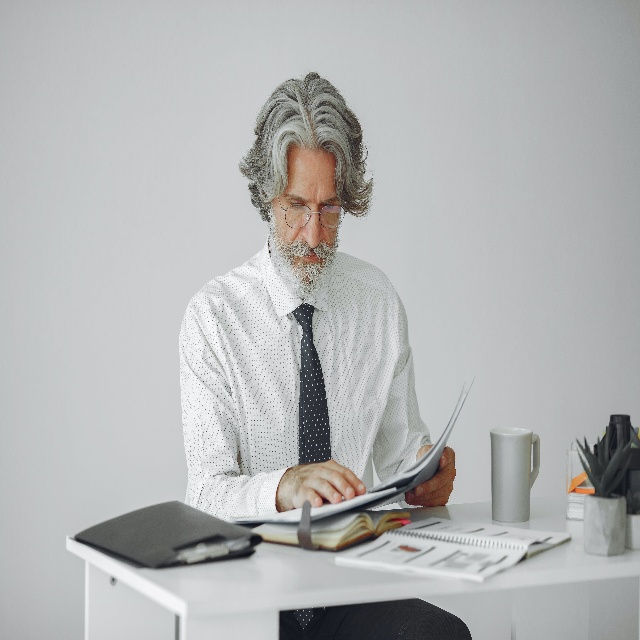Gafas: (282, 198, 347, 231)
Sin_guantes: (281, 459, 366, 508), (405, 444, 456, 507)
